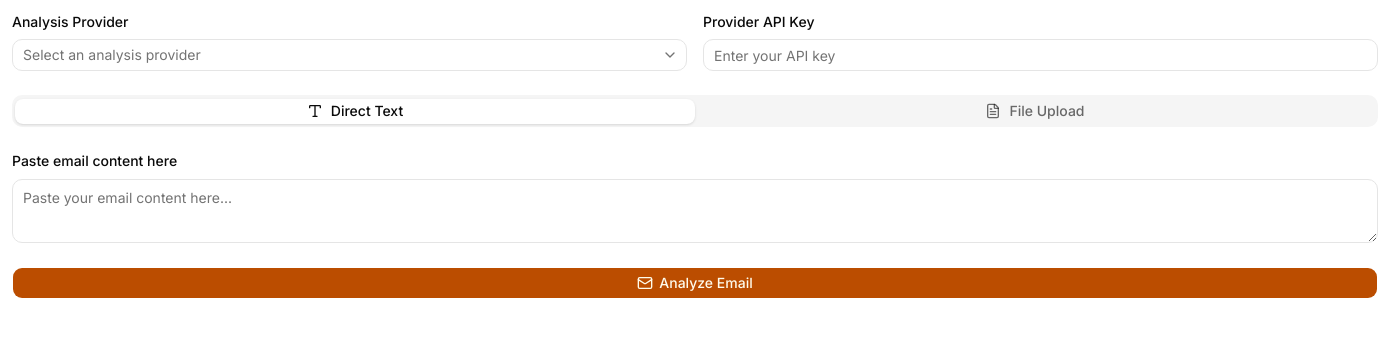
components/organisms/analysis-form › should show validation error for empty API Key on submit
The width and height of the screenshot is (1390, 337).
Click the button with test id "analysis-form_button_submit".
click(695, 282)  # box [12, 266, 1378, 298]
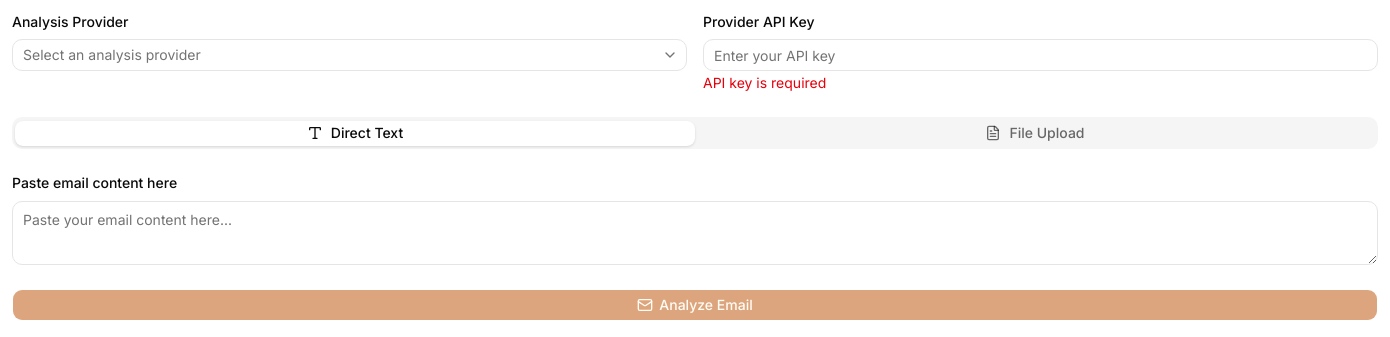
Result: the text "API key is required" is shown at [703, 74, 826, 91]
